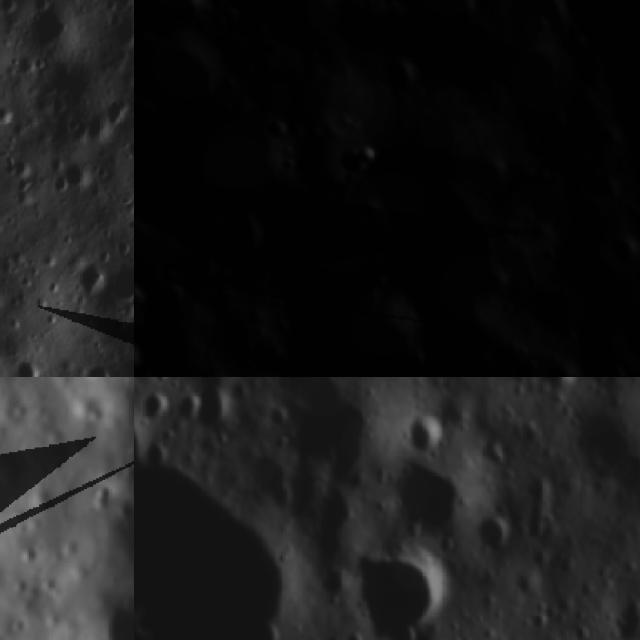crater: (134, 96, 300, 248), (303, 270, 437, 377), (530, 186, 634, 304), (330, 544, 449, 640), (371, 456, 474, 543), (134, 27, 233, 109), (565, 402, 640, 496), (134, 292, 201, 377), (3, 0, 81, 65), (212, 192, 278, 265), (236, 447, 300, 518), (382, 43, 438, 105), (193, 381, 240, 446), (345, 194, 405, 242), (395, 407, 451, 458), (180, 241, 223, 292), (468, 514, 512, 562), (50, 153, 95, 198), (141, 387, 179, 435), (103, 254, 134, 312), (380, 250, 418, 296), (607, 223, 640, 270), (525, 377, 580, 404), (556, 25, 594, 63), (591, 349, 637, 377), (8, 357, 45, 377), (80, 359, 116, 377)
